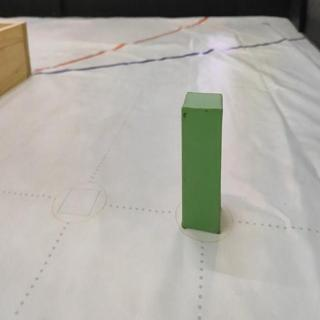greenbox: (180, 90, 225, 235)
